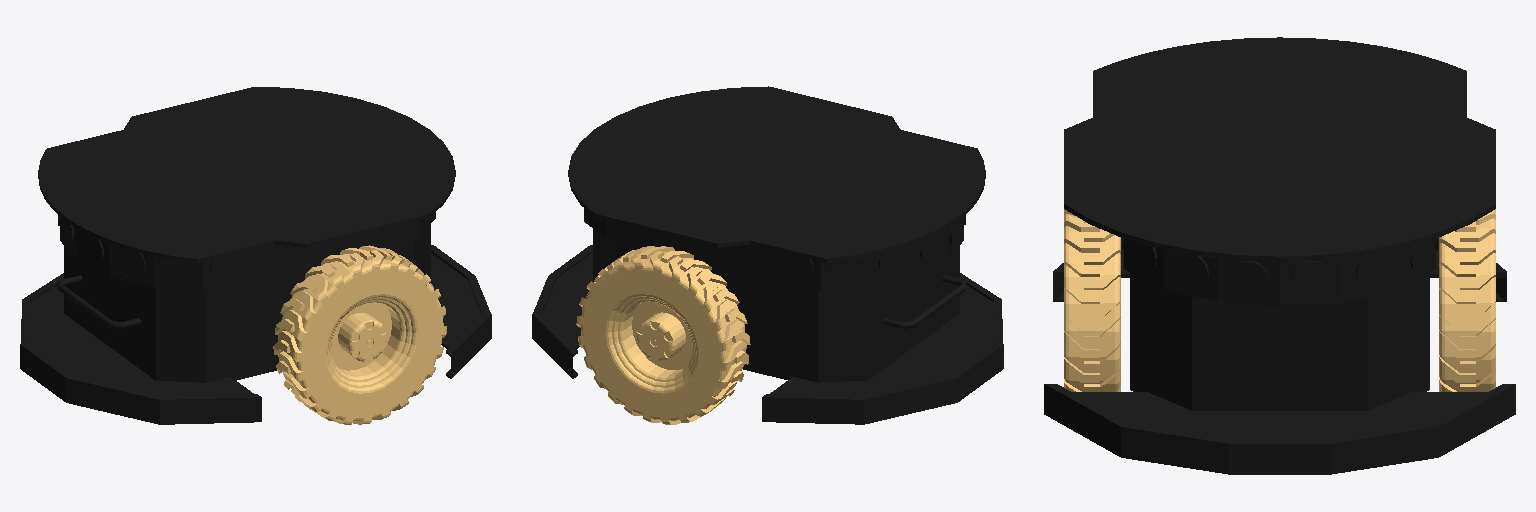
robot.urdf — PioneerP3DX__158__:
<?xml version="1.0"?>
<robot name="PioneerP3DX__158__">
    <link name="PioneerP3DX__158__">
        <inertial>
            <origin rpy="3.141593 3.141593 3.141593" xyz="0.000000 0.000000 0.000000" />
            <inertia izz="0.065331362187862" iyz="0.0" ixz="0.0" iyy="0.060596000403166" ixx="0.059999998658895" ixy="0.0" />
            <mass value="2.0" />
        </inertial>
        <collision>
            <origin xyz="0.000000 0.000000 0.000000" rpy="-3.141593 3.141593 -3.141593" />
            <geometry>
                <mesh filename="package://mazebot/models/mazebot_PioneerP3DX__158__.dae" />
            </geometry>
        </collision>
        <visual>
            <origin xyz="-0.000014 -0.000001 0.000005" rpy="-3.141593 3.141593 -3.141593" />
            <geometry>
                <mesh filename="package://mazebot/models/mazebot_visible__171__.dae" />
            </geometry>
            <material name="visible__171___material">
                <color rgba="0.147059 0.147059 0.147059 1.0" />
            </material>
        </visual>
    </link>
    <link name="rightWheel__160__">
        <inertial>
            <origin rpy="-3.141593 3.141593 -3.141593" xyz="0.000000 0.000000 0.000000" />
            <inertia izz="0.0018749999580905" iyz="0.0" ixz="0.0" iyy="0.00093749997904524" ixx="0.00093749997904524" ixy="0.0" />
            <mass value="0.1875" />
        </inertial>
        <collision>
            <origin xyz="0.000000 0.000000 0.000000" rpy="-3.141593 3.141593 -3.141593" />
            <geometry>
                <cylinder radius="0.048749998211861" length="0.025000000372529" />
            </geometry>
        </collision>
        <visual>
            <origin xyz="0.000000 -0.000000 0.000000" rpy="-1.570796 3.141592 -3.141247" />
            <geometry>
                <mesh filename="package://mazebot/models/mazebot_rightWheel_visible__161__.dae" />
            </geometry>
            <material name="rightWheel_visible__161___material">
                <color rgba="1.000000 0.836592 0.556463 1.0" />
            </material>
        </visual>
    </link>
    <joint name="rightMotor__159__" type="continuous">
        <axis xyz="0 0 1" />
        <parent link="PioneerP3DX__158__" />
        <child link="rightWheel__160__" />
        <origin xyz="0.022257 -0.082751 -0.020637" rpy="1.570796 3.141938 -3.141592" />
    </joint>
    <link name="leftWheel__163__">
        <inertial>
            <origin rpy="-3.141593 3.141593 -3.141593" xyz="0.000000 0.000000 0.000000" />
            <inertia izz="0.0018749999580905" iyz="0.0" ixz="0.0" iyy="0.00093749997904524" ixx="0.00093749997904524" ixy="0.0" />
            <mass value="0.1875" />
        </inertial>
        <collision>
            <origin xyz="0.000000 0.000000 0.000000" rpy="-3.141593 3.141593 -3.141593" />
            <geometry>
                <cylinder radius="0.048749998211861" length="0.025000000372529" />
            </geometry>
        </collision>
        <visual>
            <origin xyz="0.000000 -0.000000 0.000000" rpy="-1.570796 3.141593 -3.141247" />
            <geometry>
                <mesh filename="package://mazebot/models/mazebot_leftWheel_visible__164__.dae" />
            </geometry>
            <material name="leftWheel_visible__164___material">
                <color rgba="1.000000 0.836592 0.556463 1.0" />
            </material>
        </visual>
    </link>
    <joint name="leftMotor__162__" type="continuous">
        <axis xyz="0 0 1" />
        <parent link="PioneerP3DX__158__" />
        <child link="leftWheel__163__" />
        <origin xyz="0.022255 0.082750 -0.020626" rpy="1.570796 3.141938 -3.141593" />
    </joint>
    <link name="caster_link__166__">
        <inertial>
            <origin rpy="-3.141593 3.141593 -3.141593" xyz="0.000000 0.000000 0.000000" />
            <inertia izz="0.00062449998222291" iyz="0.0" ixz="0.0" iyy="0.00050000002374873" ixx="0.00050000002374873" ixy="0.0" />
            <mass value="0.125" />
        </inertial>
        <collision>
            <origin xyz="0.000000 0.000000 0.000000" rpy="-3.141593 3.141593 -3.141593" />
            <geometry>
                <cylinder radius="0.0088369632139802" length="0.0014799622585997" />
            </geometry>
        </collision>
        <visual>
            <origin xyz="0.003717 0.001128 -0.010175" rpy="3.141593 3.141593 -2.847039" />
            <geometry>
                <mesh filename="package://mazebot/models/mazebot_caster_link_visible__170__.dae" />
            </geometry>
            <material name="caster_link_visible__170___material">
                <color rgba="1.000000 1.000000 1.000000 1.0" />
            </material>
        </visual>
    </link>
    <joint name="caster_freeJoint__165__" type="continuous">
        <axis xyz="0 0 1" />
        <parent link="PioneerP3DX__158__" />
        <child link="caster_link__166__" />
        <origin xyz="-0.074513 -0.000001 -0.038921" rpy="-3.141492 3.141923 2.847039" />
    </joint>
    <link name="caster_wheel__168__">
        <inertial>
            <origin rpy="-3.141593 3.141593 -3.141593" xyz="0.000000 0.000000 0.000000" />
            <inertia izz="0.00021902550361119" iyz="0.0" ixz="0.0" iyy="3.1849955121288e-05" ixx="3.1849955121288e-05" ixy="0.0" />
            <mass value="0.03125" />
        </inertial>
        <collision>
            <origin xyz="0.000000 0.000000 0.000000" rpy="-3.141593 3.141593 -3.141593" />
            <geometry>
                <cylinder radius="0.014799509197474" length="0.0025899142492563" />
            </geometry>
        </collision>
        <visual>
            <origin xyz="0.000000 0.000000 0.000000" rpy="-3.141593 3.141593 -3.141593" />
            <geometry>
                <cylinder radius="0.014799509197474" length="0.010359656997025" />
            </geometry>
            <material name="caster_wheel_visible__169___material">
                <color rgba="0.305882 0.305882 0.305882 1.0" />
            </material>
        </visual>
    </link>
    <joint name="caster_freeJoint__167__" type="continuous">
        <axis xyz="0 0 1" />
        <parent link="caster_link__166__" />
        <child link="caster_wheel__168__" />
        <origin xyz="0.010622 0.003223 -0.015539" rpy="-1.570796 3.141593 -2.847039" />
    </joint>
</robot>

--- What the picture shows (computed from the rendered views, not written in the file) ---
3 views of the same robot in one strip: view 1: azimuth 30°, elevation 25°; view 2: azimuth 150°, elevation 25°; view 3: azimuth 270°, elevation 25° (orthographic).
Robot: PioneerP3DX__158__ — 5 links, 4 joints (4 continuous); root link PioneerP3DX__158__; default pose: all joints at 0.
Visible links, largest first — view 1: PioneerP3DX__158__, rightWheel__160__; view 2: PioneerP3DX__158__, leftWheel__163__; view 3: PioneerP3DX__158__, leftWheel__163__, rightWheel__160__.
Boxes of the visible links, left/top/right/bottom form: PioneerP3DX__158__: left=20, top=87, right=491, bottom=424; rightWheel__160__: left=273, top=245, right=446, bottom=424; PioneerP3DX__158__: left=532, top=86, right=1003, bottom=424; leftWheel__163__: left=576, top=246, right=750, bottom=424; PioneerP3DX__158__: left=1044, top=37, right=1515, bottom=474; leftWheel__163__: left=1439, top=209, right=1495, bottom=391; rightWheel__160__: left=1064, top=209, right=1120, bottom=391.
Size in the robot's own frame: 0.2595 by 0.2075 by 0.1185 metres.
4 mesh visuals loaded from 4 distinct referenced files (4 Collada DAE).